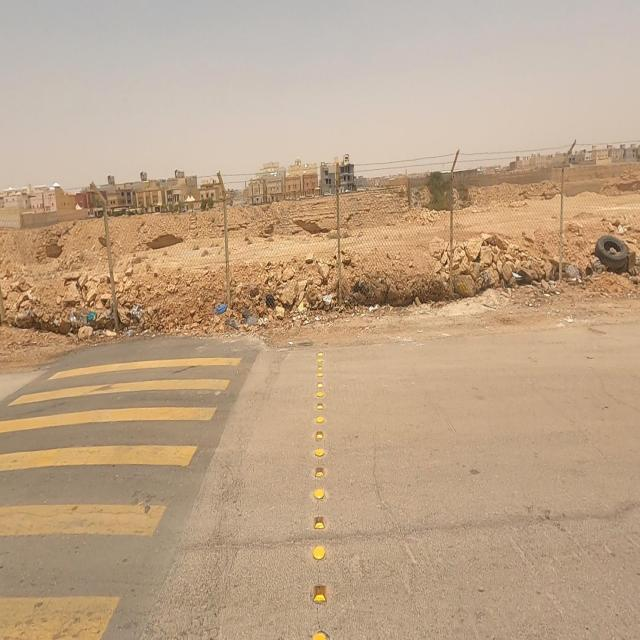debris: (528, 202, 610, 358), (572, 182, 640, 354), (176, 249, 262, 384), (96, 266, 180, 380), (282, 258, 368, 356), (484, 225, 554, 343), (49, 268, 106, 374)
